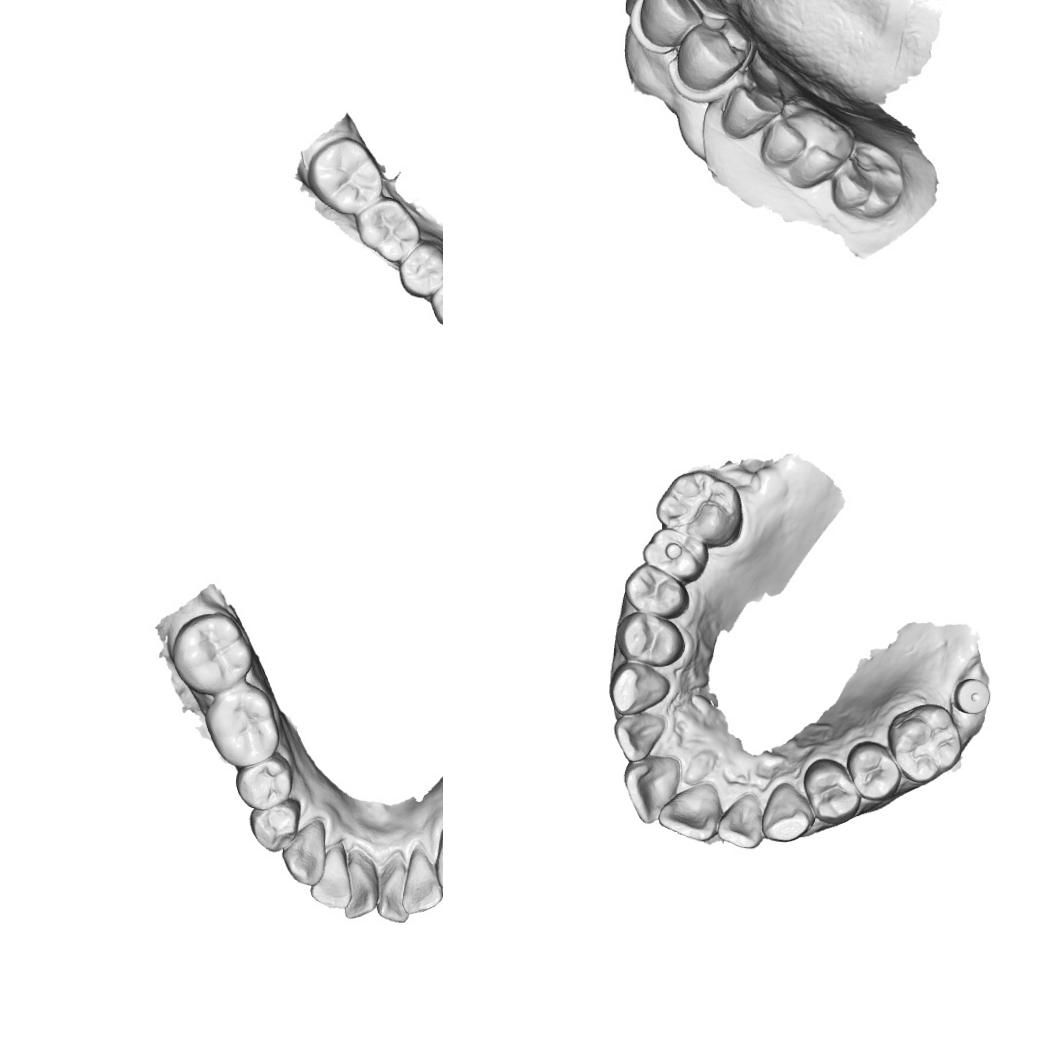canine: (759, 780, 816, 844), (608, 660, 672, 716), (636, 0, 702, 49), (280, 820, 328, 887)
implant: (952, 677, 992, 715)
incisor: (621, 755, 682, 826), (657, 780, 721, 842), (308, 842, 352, 912), (612, 712, 668, 762), (717, 792, 764, 850), (402, 849, 443, 915), (378, 854, 410, 924), (346, 852, 376, 920)
molar: (757, 106, 856, 188), (170, 611, 256, 696), (654, 469, 745, 548), (886, 702, 964, 786), (306, 136, 385, 216), (204, 685, 279, 768), (827, 140, 906, 218), (354, 196, 422, 264), (640, 526, 711, 584)
premolar: (677, 19, 751, 90), (719, 76, 783, 142), (800, 756, 862, 824), (614, 610, 686, 667), (622, 562, 690, 620), (844, 739, 902, 802), (231, 754, 292, 812), (250, 798, 304, 856), (396, 238, 443, 298), (428, 269, 443, 329)
